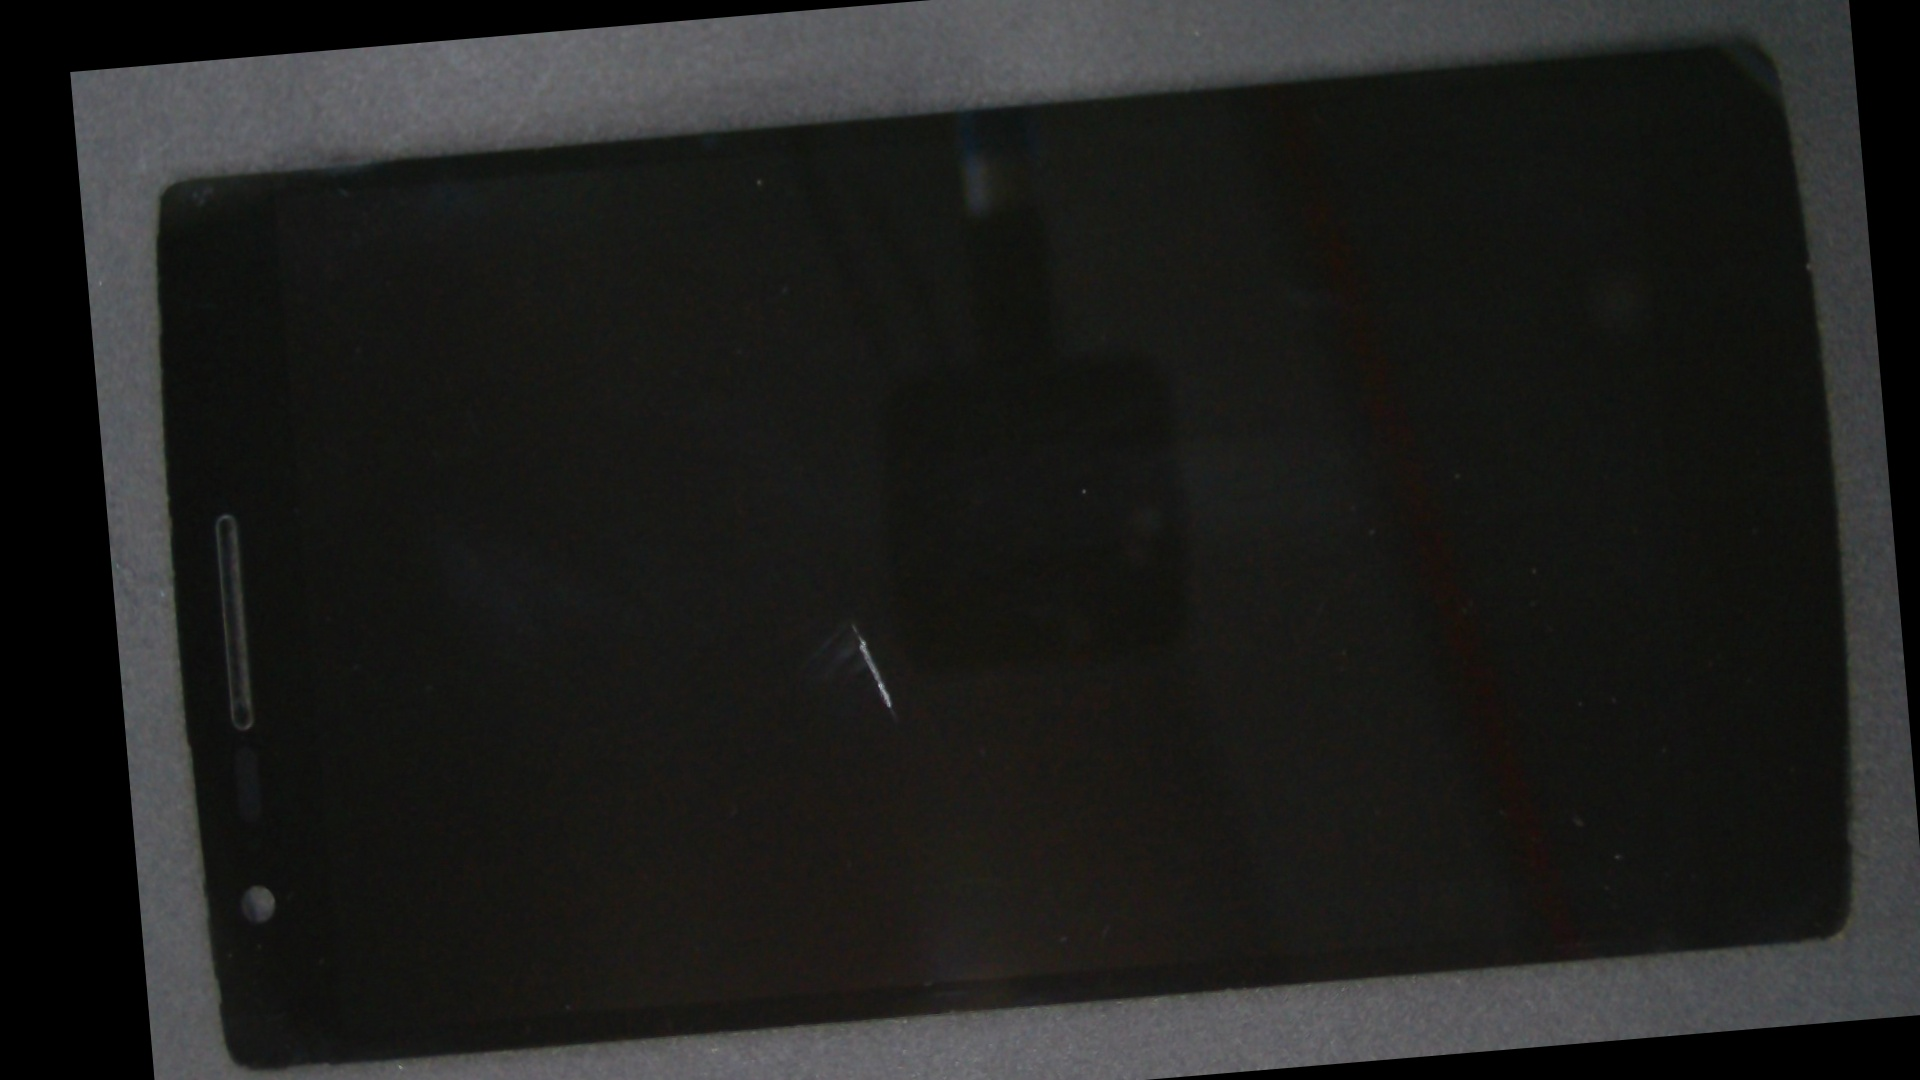oil: (463, 286, 1244, 961)
